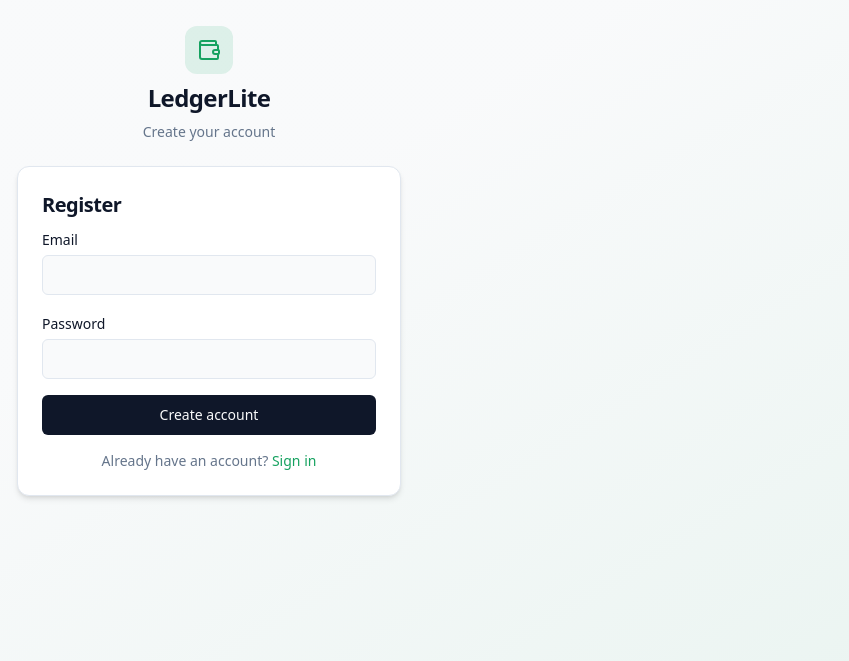
Test: Register page › shows a validation error for invalid email
Type "bad-email" into the field labelled "Email". click: (209, 275)
box: [42,255,376,295]
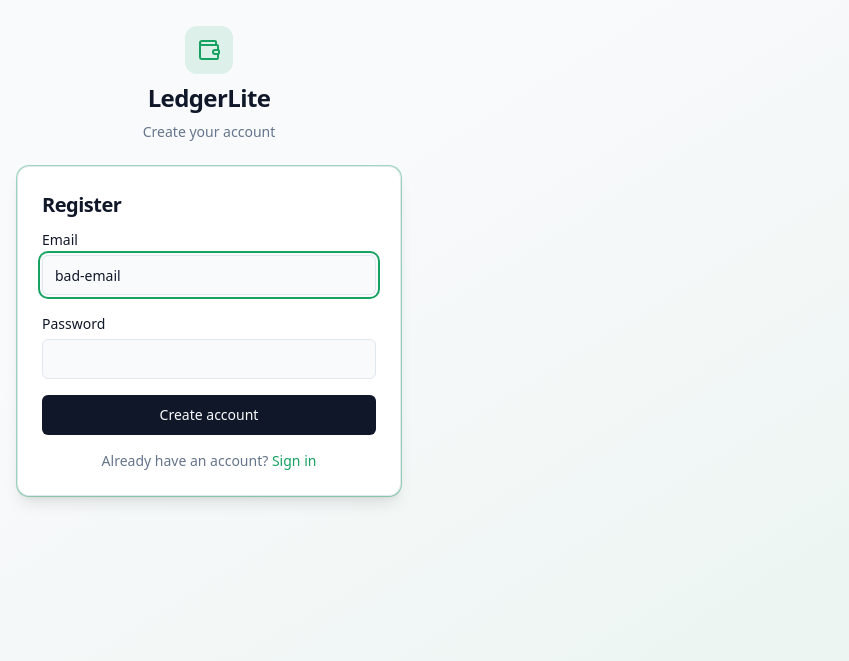
Type "password123" into the password field labelled "Password". click: (209, 359)
box: [42,339,376,379]
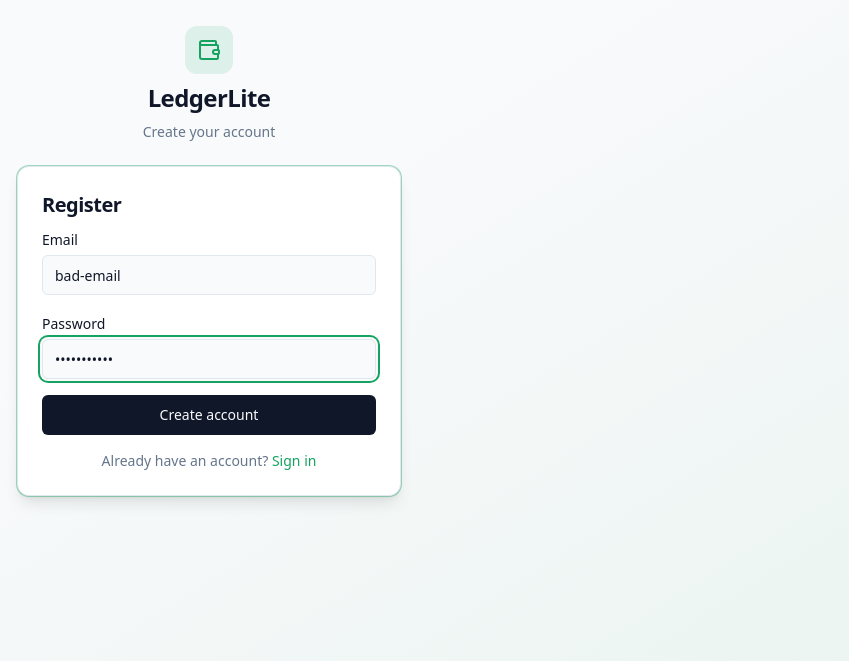
Click the button "Create account". click: (209, 415)
box: [42,395,376,435]
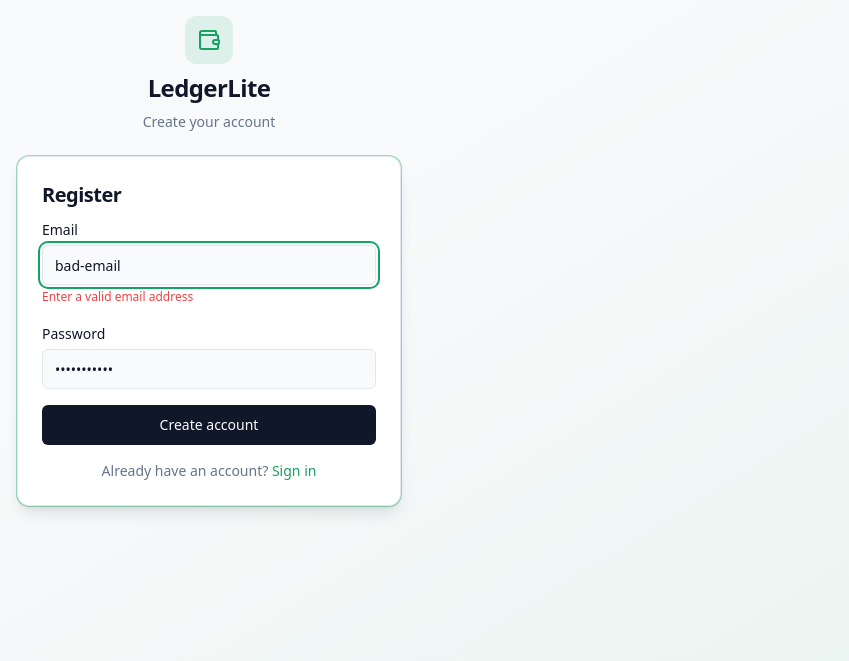
Now the text "Enter a valid email address" is shown, box [42,288,193,305]
